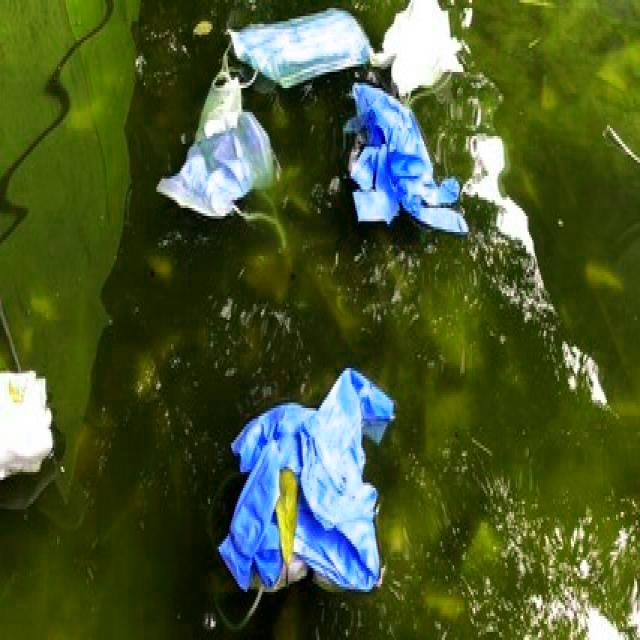Trash: (221, 370, 395, 594), (319, 76, 469, 250), (155, 71, 287, 240), (207, 10, 381, 82), (366, 1, 462, 95), (468, 128, 533, 262), (0, 367, 55, 486)
